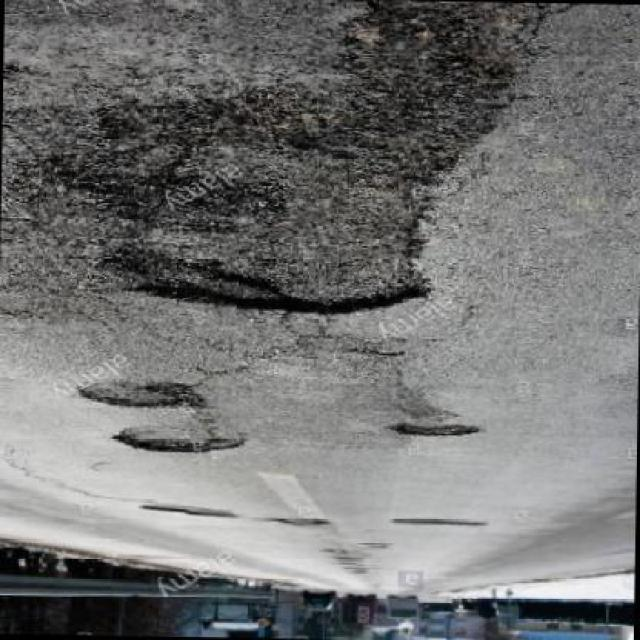pothole: (39, 80, 446, 322), (76, 378, 212, 416), (111, 428, 252, 458), (140, 503, 251, 522), (390, 424, 487, 439), (391, 520, 494, 532), (260, 517, 338, 531), (325, 547, 352, 559)
